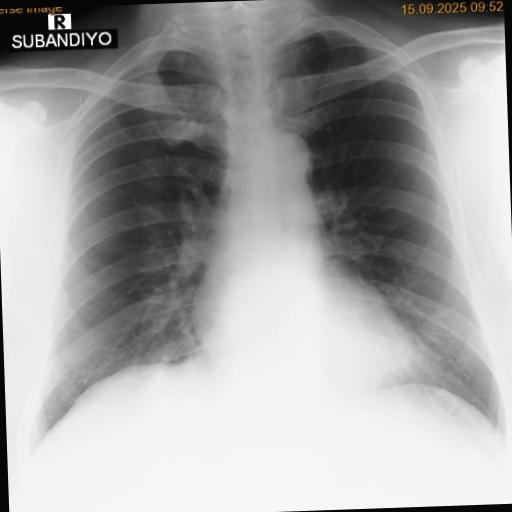kardiomegali: (2, 17, 512, 459)
